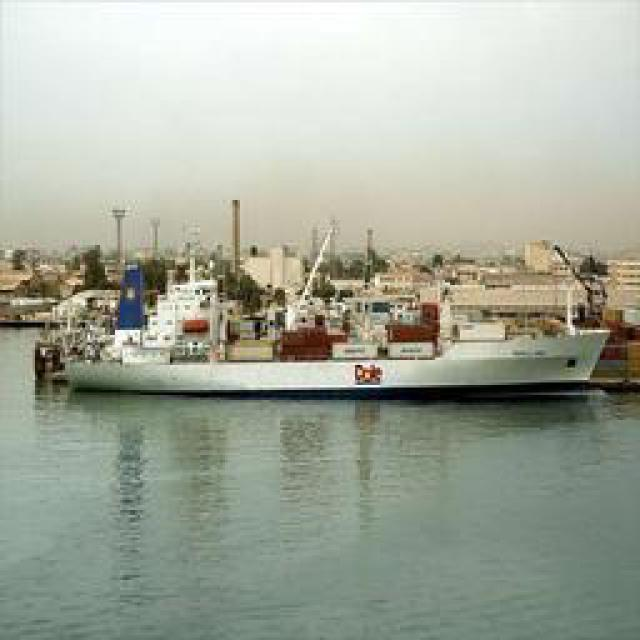Ship: (52, 280, 635, 398)
